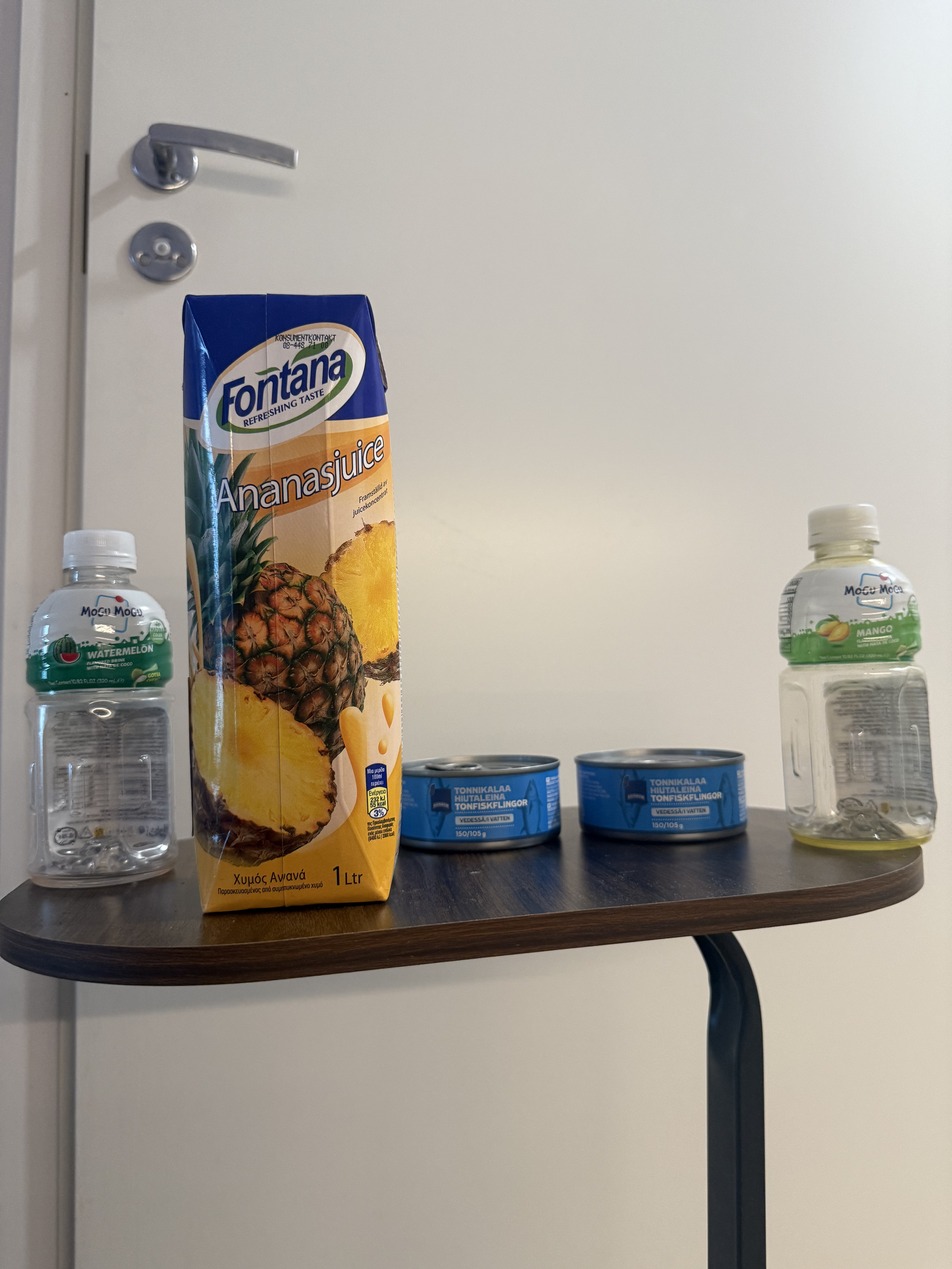Dryckeskartong: (182, 296, 398, 911)
Konservburk: (573, 755, 753, 837), (402, 765, 560, 847)
Pantburk: (772, 501, 936, 845), (34, 526, 175, 887)
